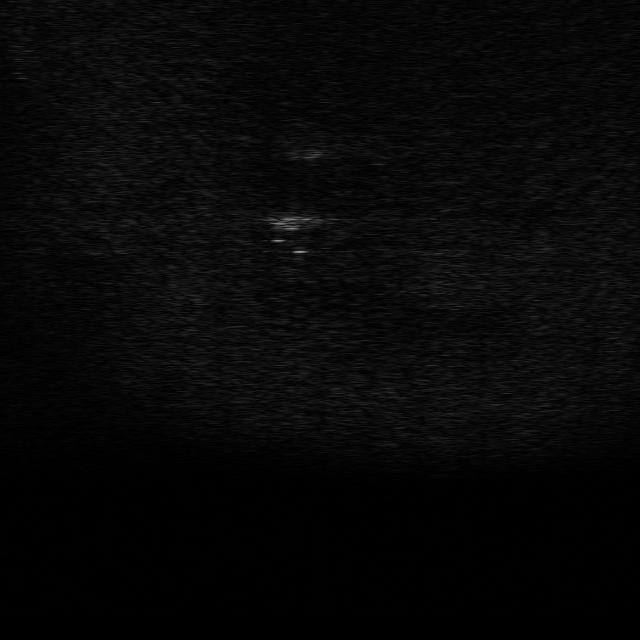plane: (262, 201, 334, 257)
